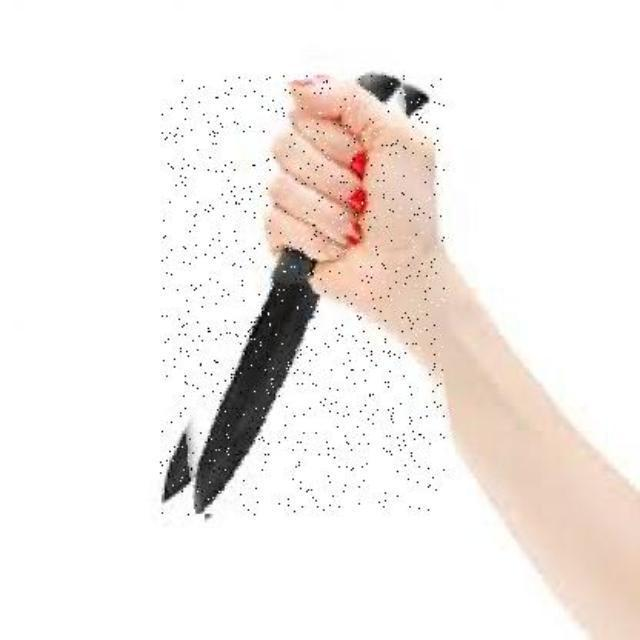Knife: (160, 76, 444, 516)
